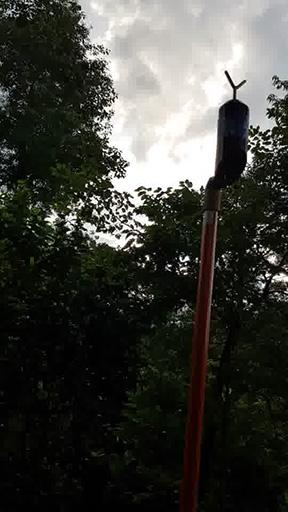Detector_Tensao_Contato: (213, 69, 251, 187)
Vara_Manobra: (180, 184, 223, 512)
